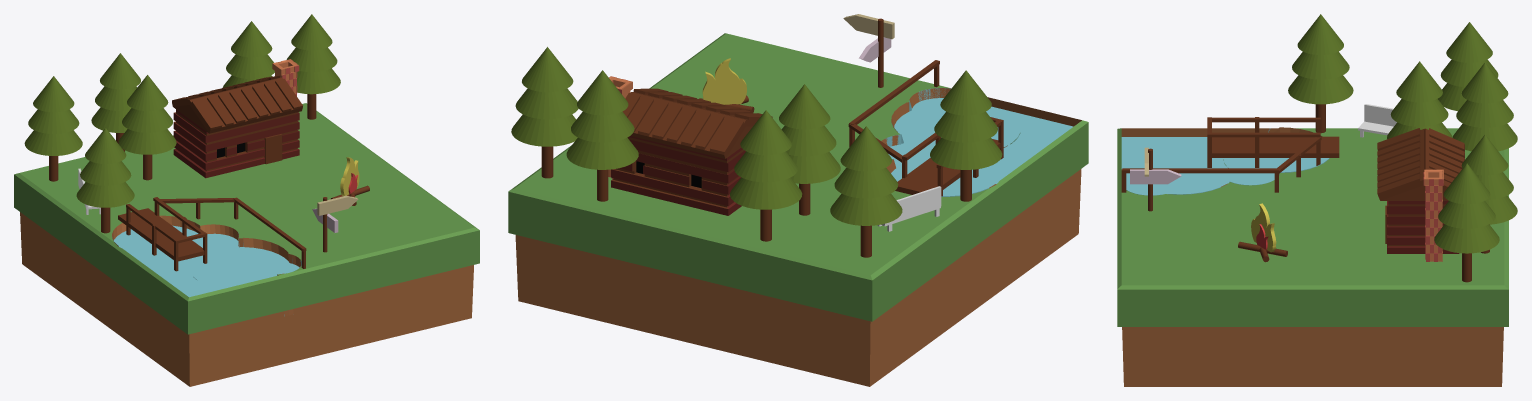
Rendered from bosque.fbx.
3 views of the same model, side by side, from view 1: azimuth 30°, elevation 25°; view 2: azimuth 150°, elevation 25°; view 3: azimuth 270°, elevation 25° (orthographic). The views are drawn at different scales.
Visible parts, largest first — view 1: Cylinder.003, Cube.001, Cylinder.000, Cylinder.004, Cylinder.002, Cylinder.008, Cube.013, Cylinder.001, Cylinder.009, Cube.002, Cube, Cube.018 (+1 smaller); view 2: Cylinder.003, Cube.001, Cylinder.000, Cylinder.009, Cylinder.001, Cylinder.004, Cylinder.008, Cylinder.002, Cube.013, BezierCurve, Cube.002, Cube.012 (+1 smaller); view 3: Cylinder.003, Cube.001, Cylinder.008, Cylinder.004, Cylinder.001, Cube.013, Cylinder.002, Cylinder.000, Cube.002, Cylinder.009, Cube, Cube.012 (+2 smaller).
Part boxes in pixels (x1=…): Cylinder.003: x1=14, y1=103, x2=479, y2=386; Cube.001: x1=172, y1=75, x2=302, y2=178; Cylinder.000: x1=24, y1=76, x2=82, y2=181; Cylinder.004: x1=76, y1=127, x2=134, y2=233; Cylinder.002: x1=118, y1=75, x2=176, y2=180; Cylinder.008: x1=286, y1=14, x2=340, y2=119; Cube.013: x1=126, y1=197, x2=306, y2=271; Cylinder.001: x1=91, y1=53, x2=140, y2=151; Cylinder.009: x1=222, y1=21, x2=274, y2=87; Cube.002: x1=118, y1=208, x2=204, y2=261; Cube: x1=272, y1=59, x2=299, y2=95; Cube.018: x1=317, y1=195, x2=358, y2=215; Cylinder.003: x1=508, y1=33, x2=1088, y2=386; Cube.001: x1=611, y1=88, x2=772, y2=215; Cylinder.000: x1=830, y1=126, x2=902, y2=257; Cylinder.009: x1=566, y1=70, x2=638, y2=201; Cylinder.001: x1=730, y1=110, x2=802, y2=241; Cylinder.004: x1=930, y1=70, x2=1002, y2=201; Cylinder.008: x1=511, y1=47, x2=578, y2=178; Cylinder.002: x1=779, y1=84, x2=840, y2=215; Cube.013: x1=848, y1=60, x2=1003, y2=196; BezierCurve: x1=702, y1=58, x2=746, y2=104; Cube.002: x1=895, y1=139, x2=1000, y2=194; Cube.012: x1=877, y1=186, x2=941, y2=231; Cylinder.003: x1=1117, y1=127, x2=1508, y2=386; Cube.001: x1=1377, y1=128, x2=1464, y2=253; Cylinder.008: x1=1434, y1=163, x2=1499, y2=282; Cylinder.004: x1=1288, y1=14, x2=1353, y2=133; Cylinder.001: x1=1452, y1=62, x2=1517, y2=151; Cube.013: x1=1121, y1=117, x2=1321, y2=192; Cylinder.002: x1=1387, y1=61, x2=1452, y2=138; Cylinder.000: x1=1438, y1=22, x2=1498, y2=111; Cube.002: x1=1212, y1=136, x2=1339, y2=157; Cylinder.009: x1=1461, y1=135, x2=1517, y2=253; Cube: x1=1423, y1=169, x2=1443, y2=261; Cube.012: x1=1358, y1=104, x2=1396, y2=137.
Bounding box in the file's own units: 880 × 509 × 843.
